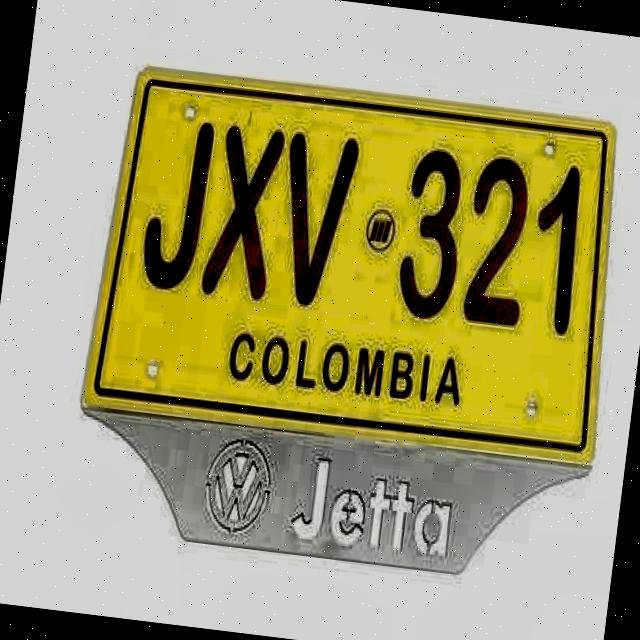1: (521, 158, 593, 346)
2: (453, 146, 542, 333)
3: (386, 139, 474, 336)
J: (128, 110, 216, 300)
V: (269, 122, 364, 319)
X: (196, 116, 290, 314)
